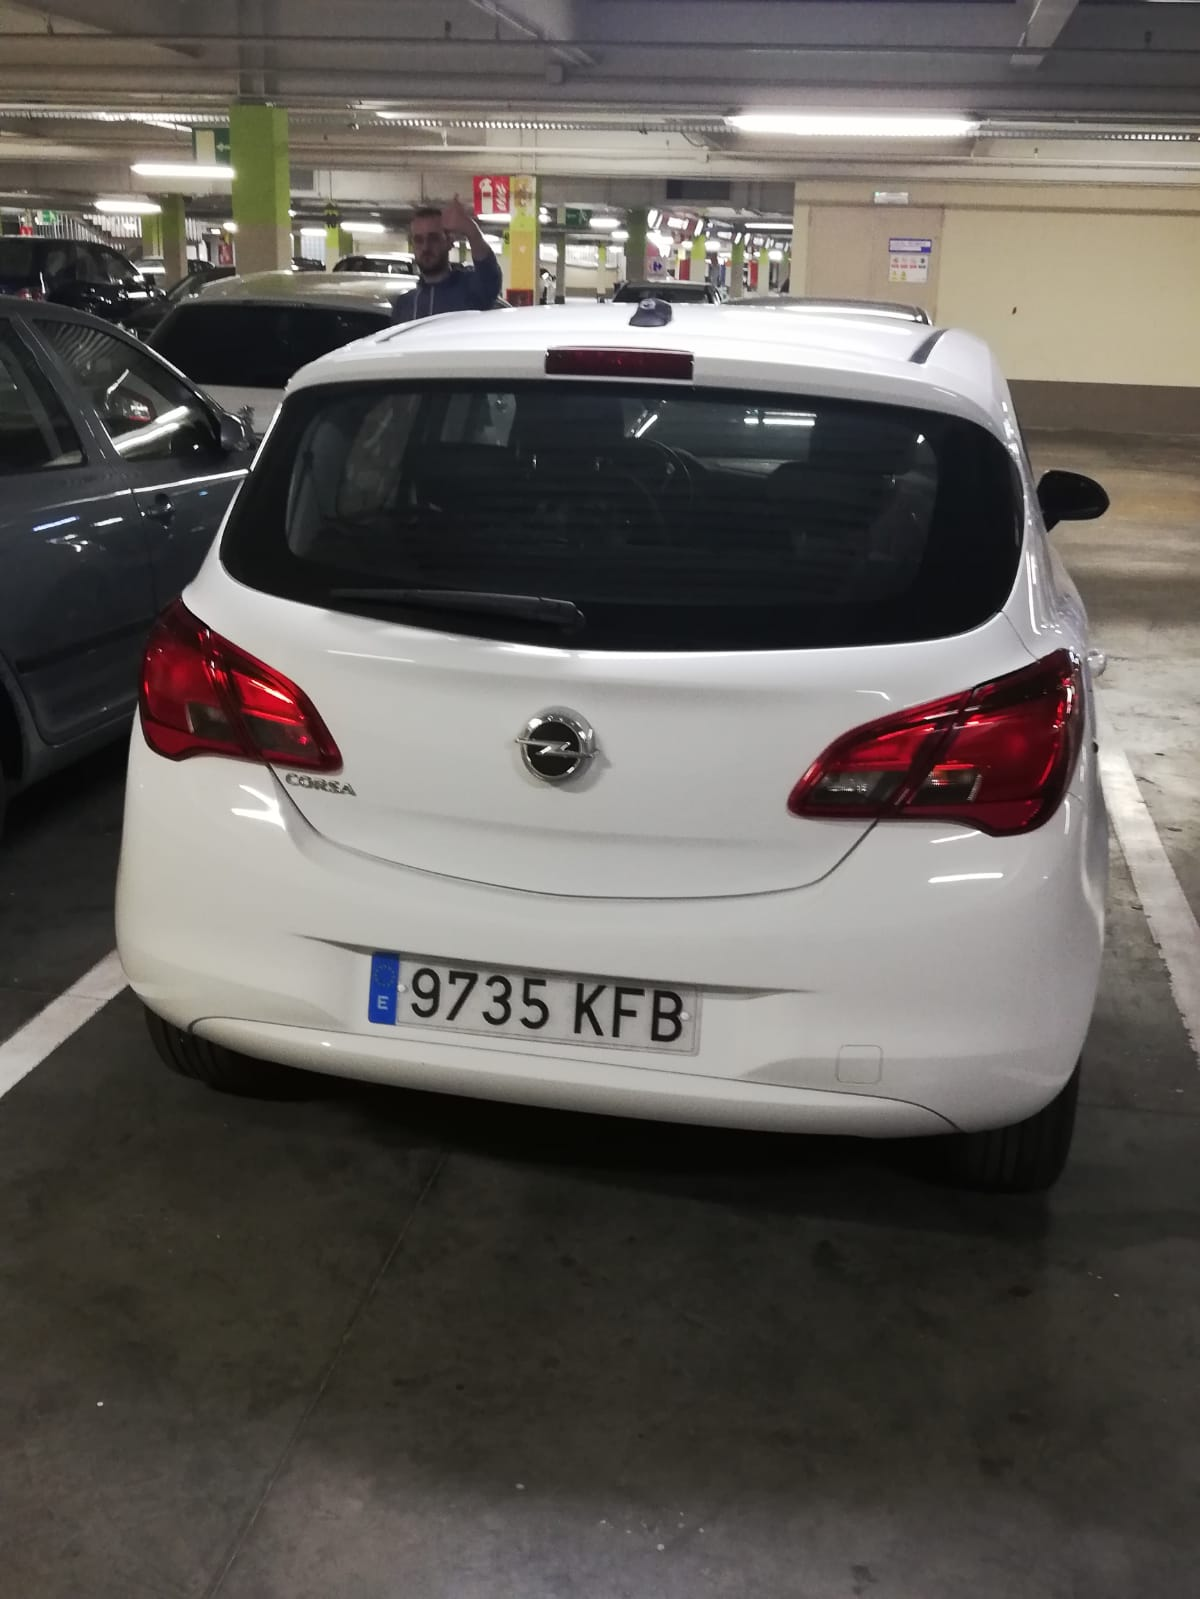Car: (117, 298, 1098, 1201)
Plate: (376, 950, 703, 1021)
